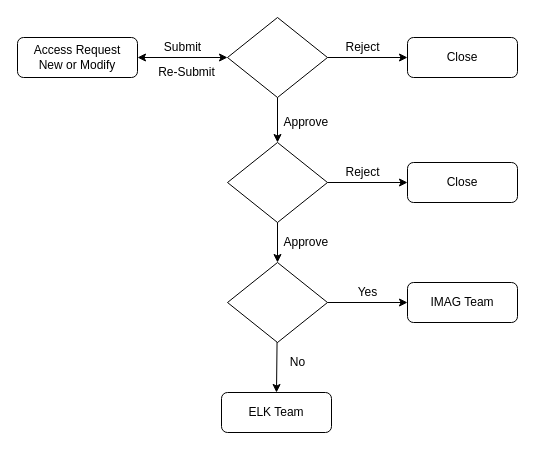
Some shapes in this 535 by 450 pixel diagram are drawn without their labels. The shapes that lost their labels are listed below. From the top down, each one's box as (x1, y1, x2, y2) in pixels, then its label:
(226, 16, 328, 98): Line Manager
(226, 142, 328, 222): Application Owner
(226, 262, 328, 342): Role exists
